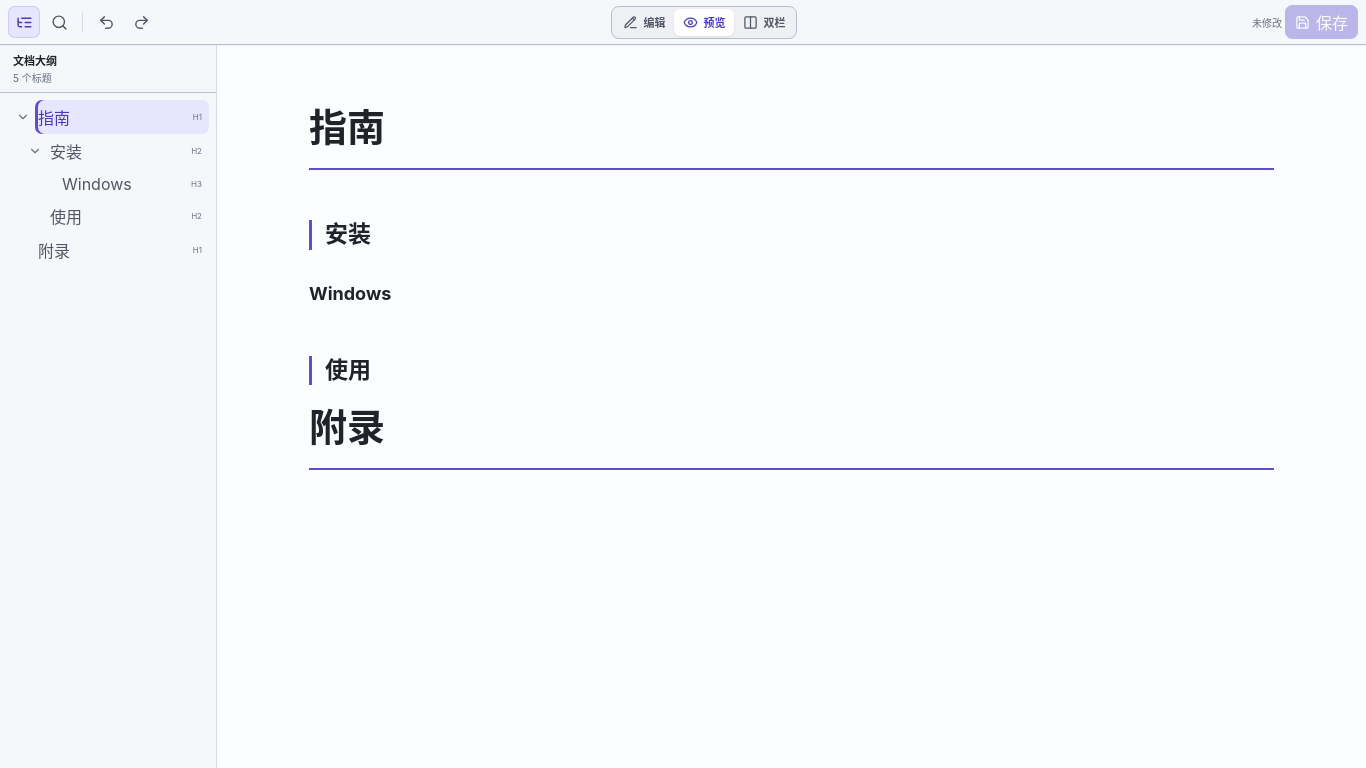
MarkdownViewer preview › collapses and expands only descendants of the selected outline branch
This screenshot has width=1366, height=768.
Expected: the button "安装 H2" is shown, [47, 134, 209, 168]
Expected: the button "Windows H3" is shown, [59, 168, 209, 199]
Click the button named "折叠“指南”下的标题": [23, 117] box [11, 103, 35, 131]
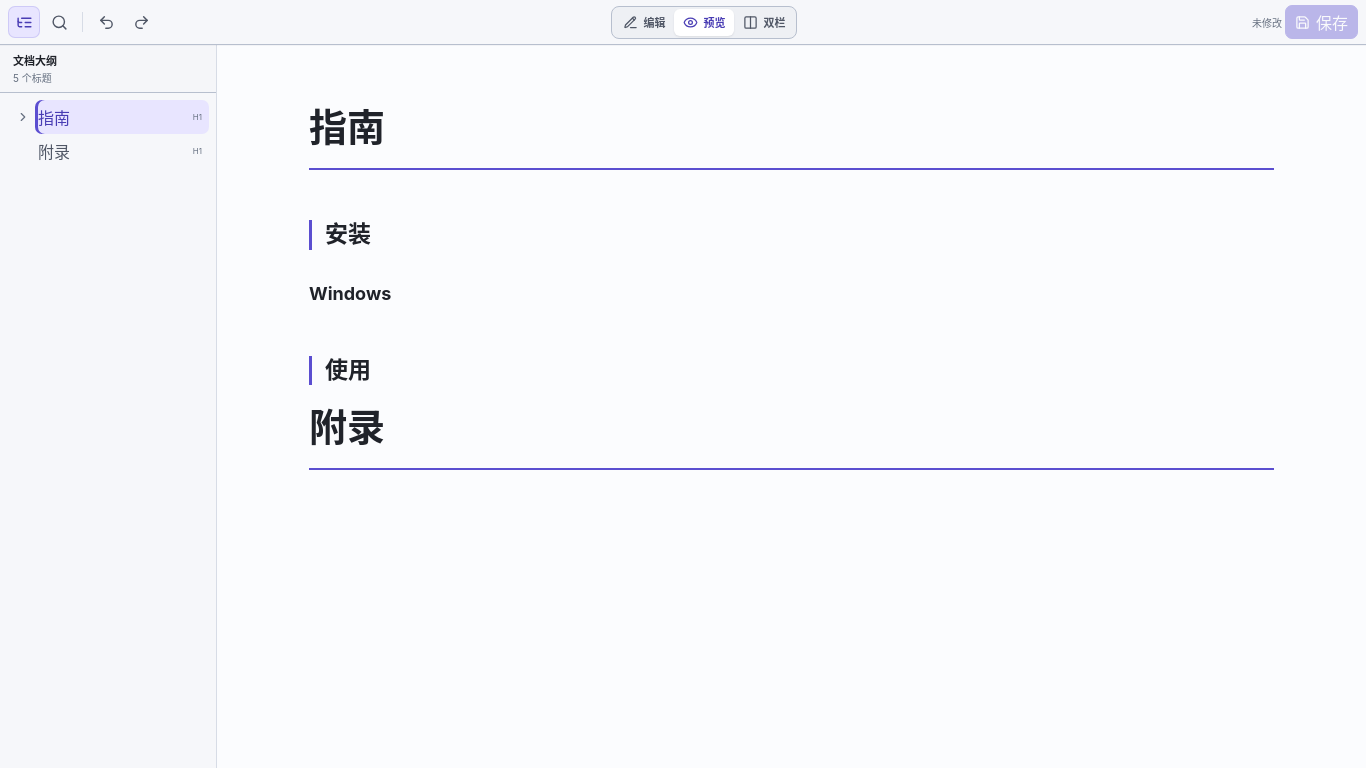
Result: the button named "展开“指南”下的标题" is collapsed
Result: the button "安装 H2" is gone
Result: the button "Windows H3" is gone
Click the button named "展开“指南”下的标题": [23, 117] box [11, 103, 35, 131]
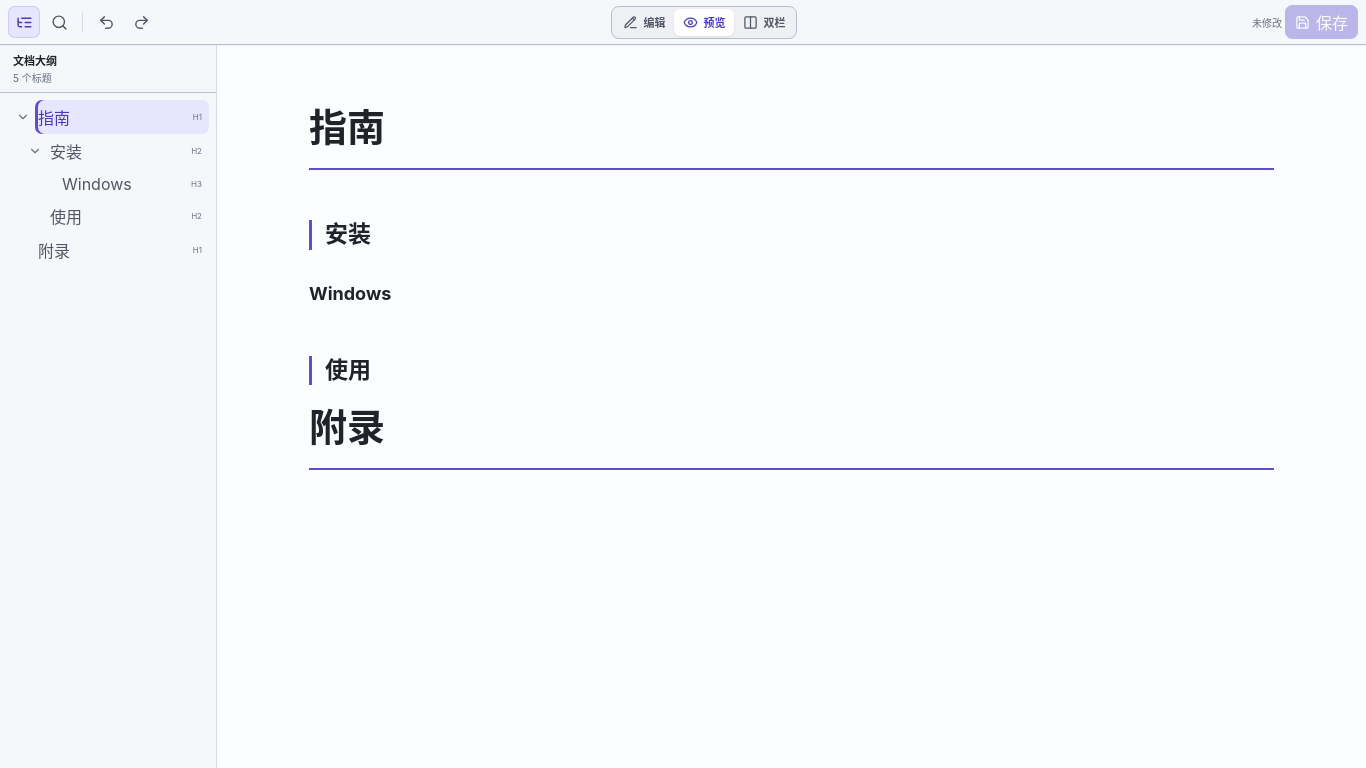
Result: the button "Windows H3" is shown at [59, 168, 209, 199]
